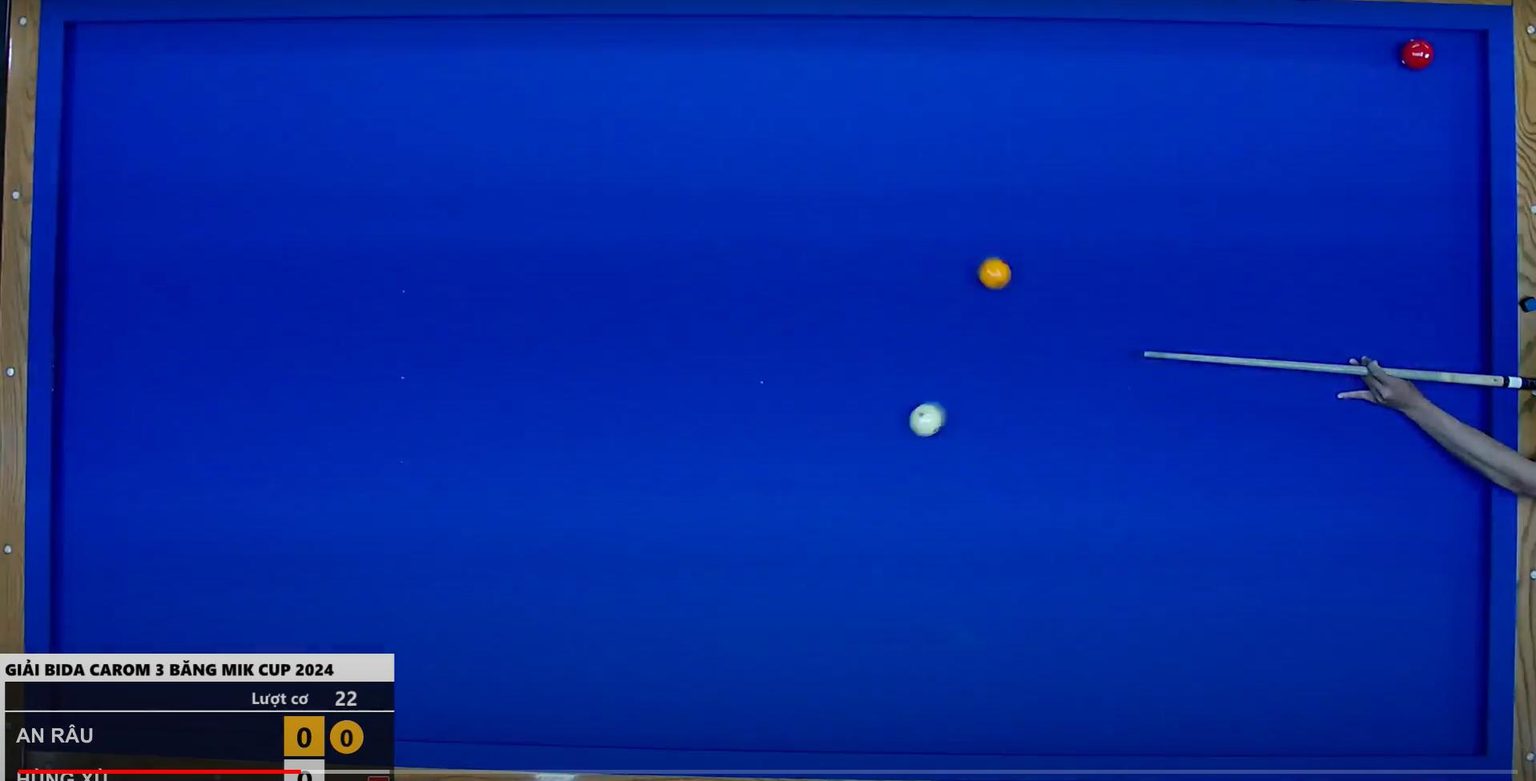red ball: (1391, 33, 1439, 80)
white ball: (905, 398, 959, 444)
yellow ball: (972, 250, 1020, 297)
